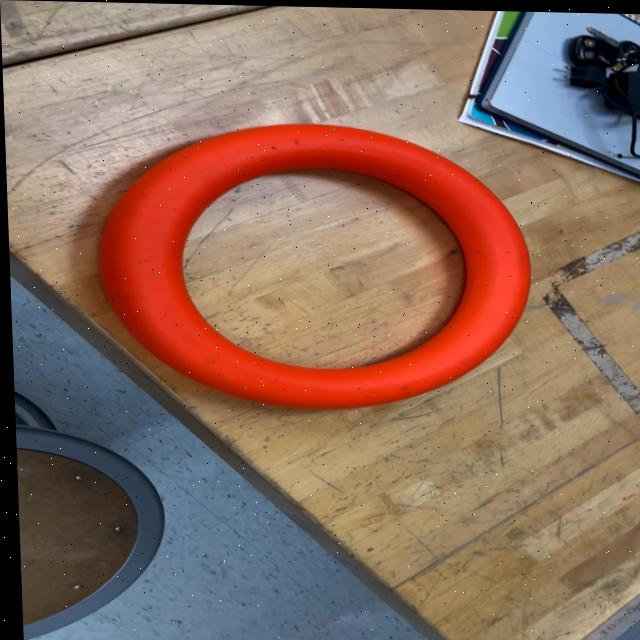note: (96, 118, 539, 415)
